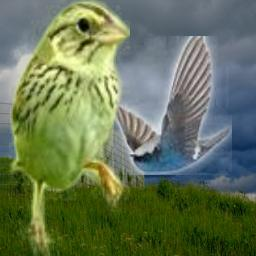Sparrow: (9, 0, 130, 256)
Swallow: (102, 36, 232, 175)
